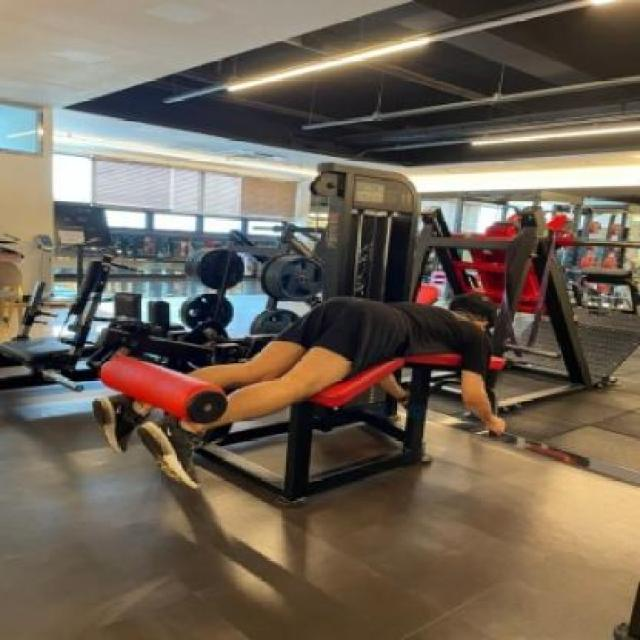reg curl machine: (88, 158, 517, 508)
